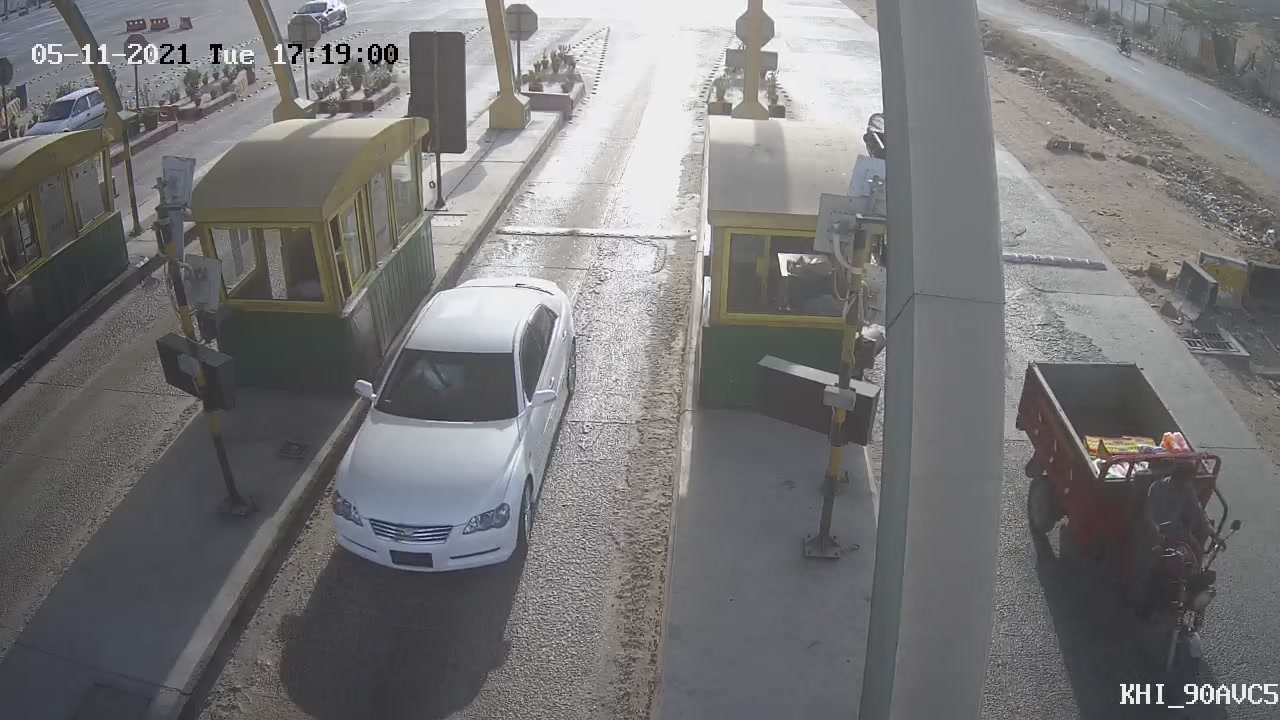F1: (283, 264, 605, 601)
